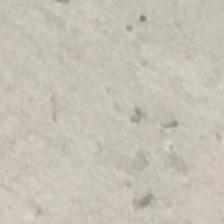Non_Crack: (11, 11, 224, 224)
